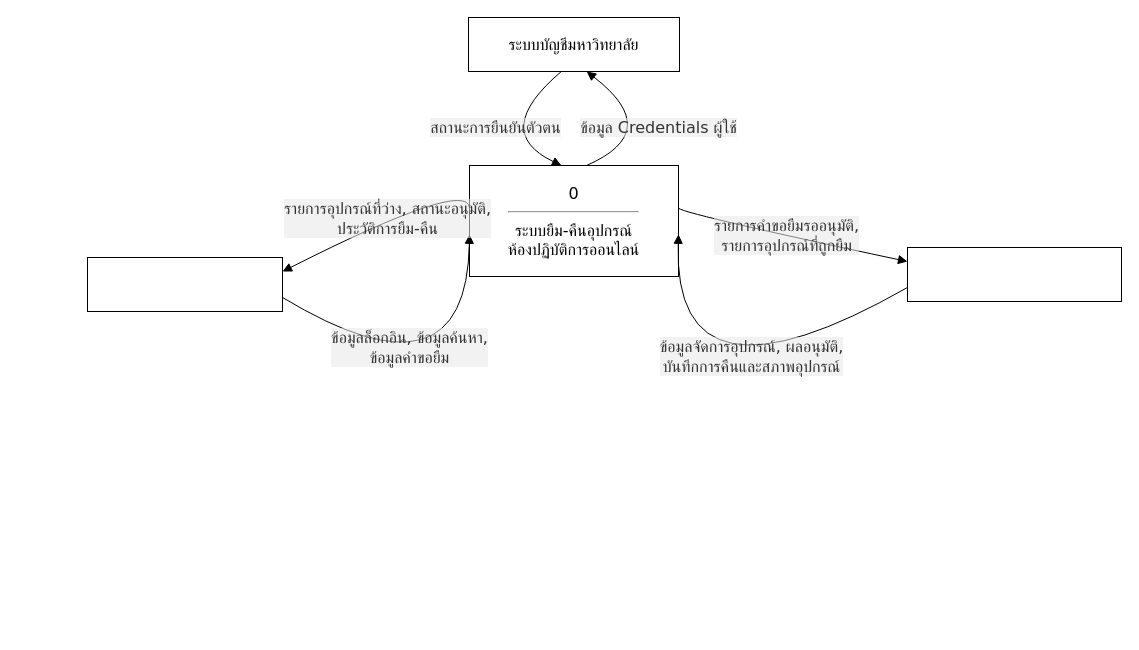
Image size: 1139x650. Some labels were removed from this diagram. The box of each missing label's shape, as (x1, y1, x2, y2) in pixels:
นักศึกษาและอาจารย์: (86, 256, 282, 312)
เจ้าหน้าที่ห้องปฏิบัติการ: (906, 246, 1122, 302)
